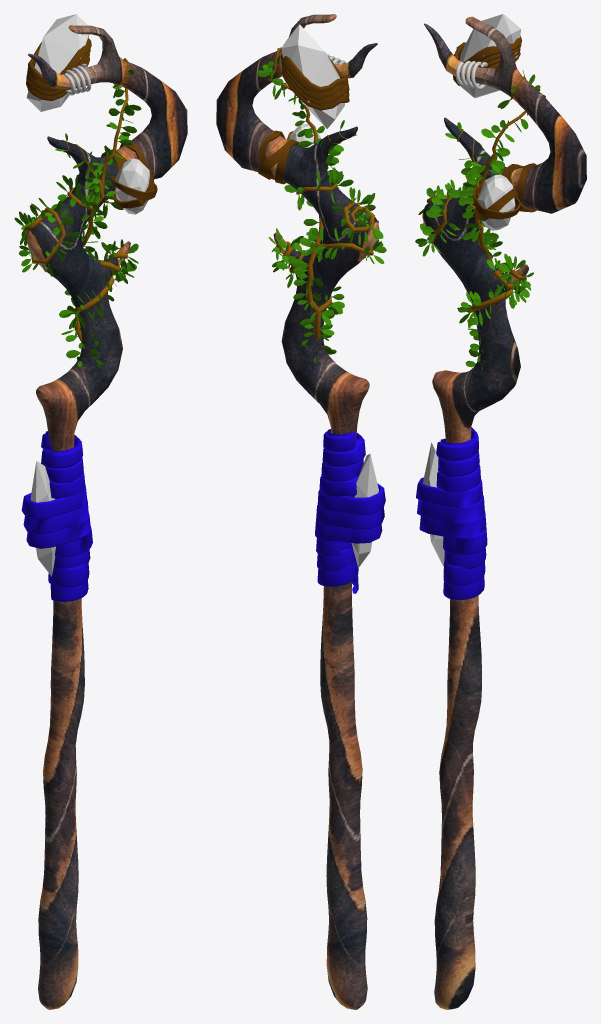
Rendered from stick.fbx.
3 renders of one model, left to right at view 1: azimuth 30°, elevation 25°; view 2: azimuth 150°, elevation 25°; view 3: azimuth 330°, elevation 25°, orthographic.
Parts seen in each view (by area): view 1: Скипетр, Изолента, Кристалл Огня, Лоза, Термо-крепёж, Кристалл Воды, Кожаный ремень, Кристалл Света, Пружина; view 2: Скипетр, Изолента, Кристалл Огня, Лоза, Термо-крепёж, Кожаный ремень, Кристалл Света; view 3: Скипетр, Изолента, Лоза, Кристалл Огня, Кожаный ремень, Кристалл Воды, Термо-крепёж, Кристалл Света, Пружина.
Boxes of the visible parts, box(x1,y1,x2,y2) form: Скипетр: box(27, 25, 187, 1009); Изолента: box(21, 431, 92, 601); Кристалл Огня: box(26, 14, 89, 111); Лоза: box(24, 58, 128, 342); Термо-крепёж: box(26, 38, 91, 100); Кристалл Воды: box(115, 158, 149, 214); Кожаный ремень: box(101, 143, 157, 208); Кристалл Света: box(30, 461, 55, 576); Пружина: box(64, 63, 91, 95); Скипетр: box(216, 14, 379, 1009); Изолента: box(315, 429, 385, 593); Кристалл Огня: box(281, 24, 344, 128); Лоза: box(267, 47, 374, 339); Термо-крепёж: box(280, 53, 349, 110); Кожаный ремень: box(258, 130, 326, 184); Кристалл Света: box(351, 454, 378, 567); Скипетр: box(422, 16, 586, 1009); Изолента: box(416, 427, 487, 599); Лоза: box(426, 74, 526, 312); Кристалл Огня: box(460, 14, 521, 98); Кожаный ремень: box(473, 163, 536, 221); Кристалл Воды: box(478, 174, 515, 230); Термо-крепёж: box(453, 36, 521, 86); Кристалл Света: box(422, 442, 444, 566); Пружина: box(455, 60, 487, 89).
Bounding box in the file's own units: 15.01 × 85 × 9.74.
